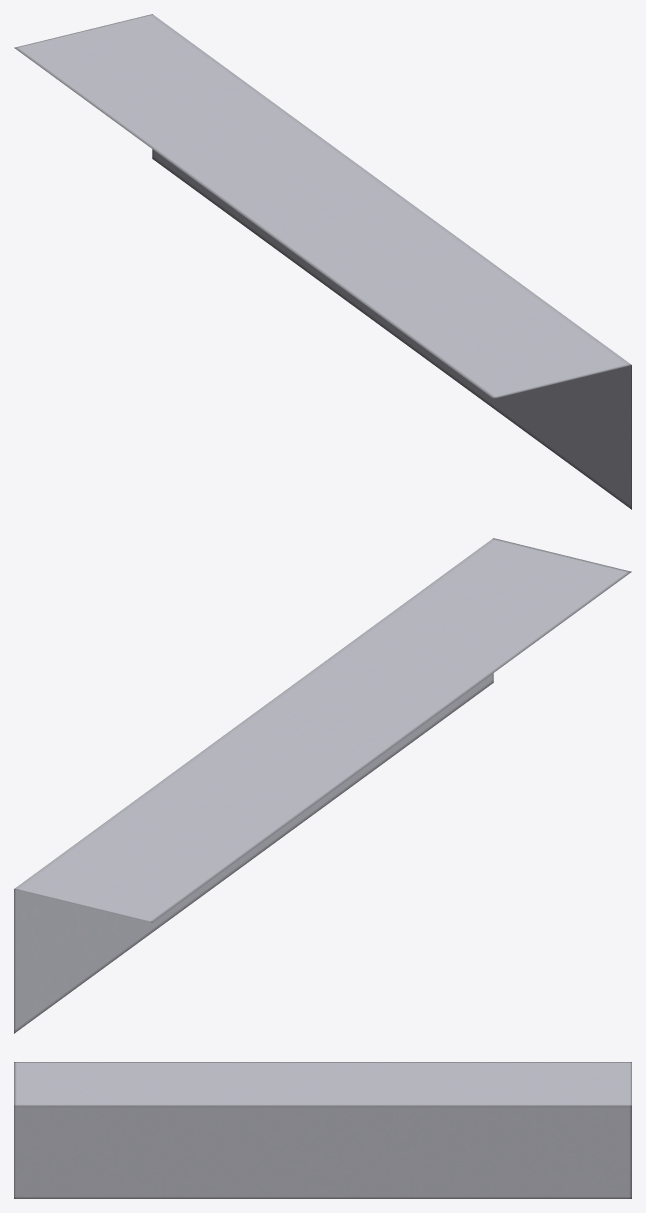
Rendered from Roof_Bar_Hozi_02_LP.FBX.
3 views of the same model, one above another, from view 1: azimuth 30°, elevation 25°; view 2: azimuth 150°, elevation 25°; view 3: azimuth 270°, elevation 25° (orthographic). The views are drawn at different scales.
Visible parts, largest first — view 1: Roof_Bar_Hozi_02_LP; view 2: Roof_Bar_Hozi_02_LP; view 3: Roof_Bar_Hozi_02_LP.
Part boxes in pixels (x1,y1,x2,y2): Roof_Bar_Hozi_02_LP: [14, 14, 631, 509]; Roof_Bar_Hozi_02_LP: [14, 538, 631, 1033]; Roof_Bar_Hozi_02_LP: [14, 1062, 631, 1198].
Size of the model in its own units: 1 by 1 by 6.
